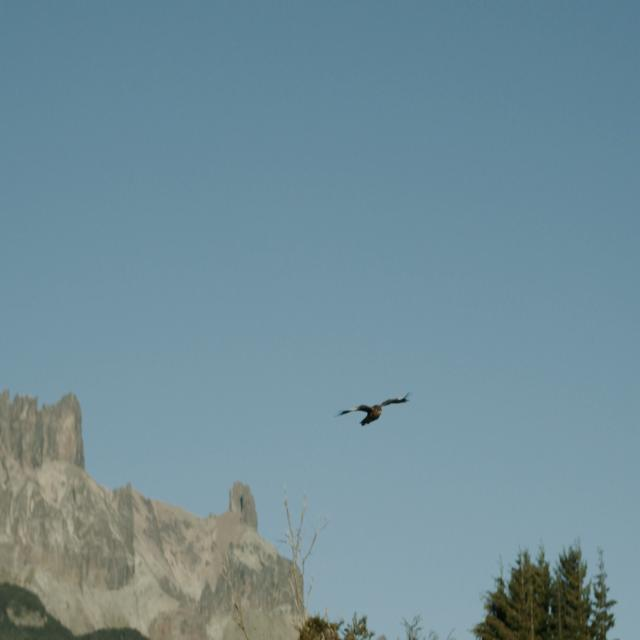bird: (330, 382, 417, 440)
